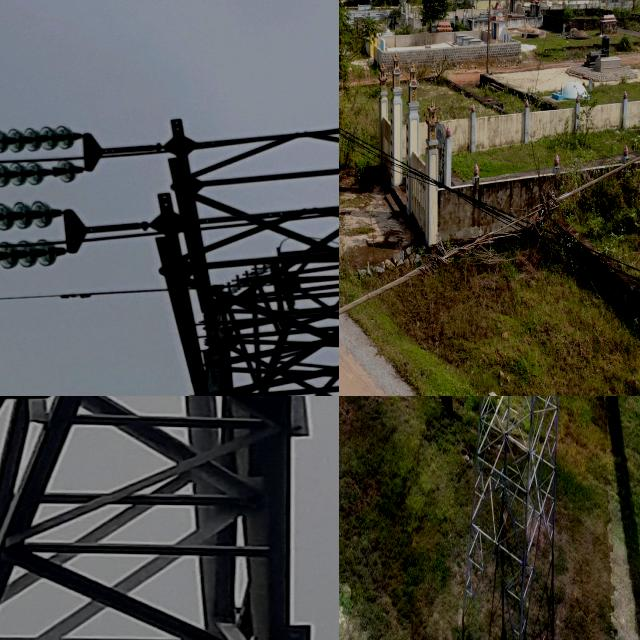杆塔: (30, 105, 339, 396), (0, 396, 325, 640), (465, 396, 564, 640)
正常绝缘子: (0, 123, 81, 157), (0, 239, 68, 277), (0, 160, 82, 191), (0, 199, 62, 237)
电缆破损: (401, 129, 571, 304)
绝缘子破损: (44, 165, 62, 179)
